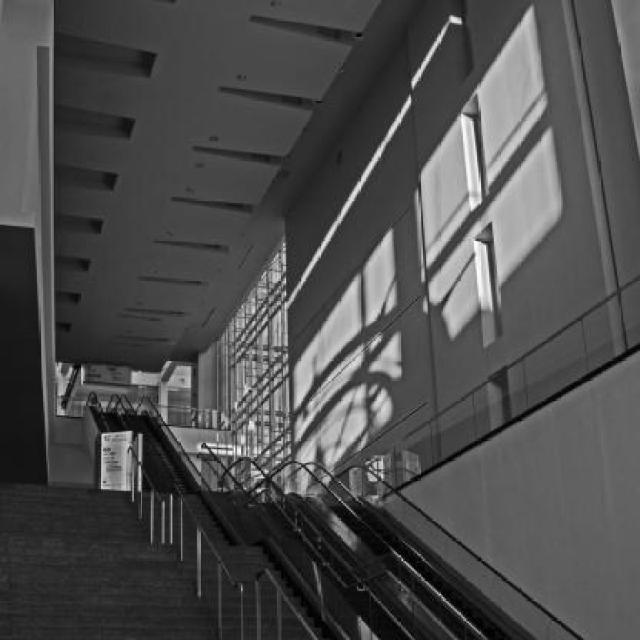stair: (0, 478, 335, 639), (96, 408, 198, 492)
